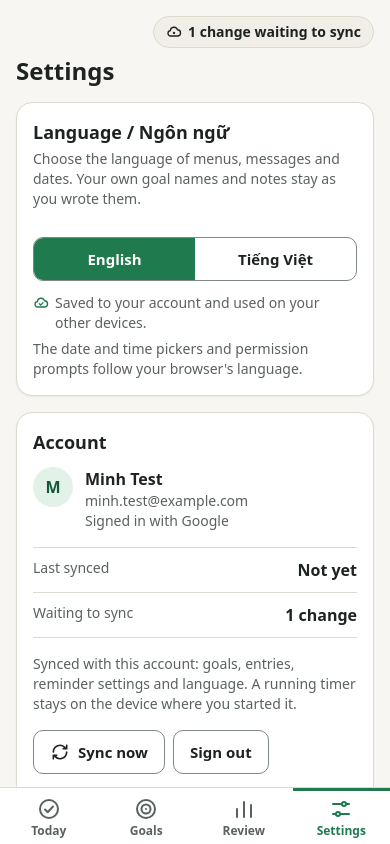
Test: Settings — signed-in copy (M7-AC15, DESIGN S7) › D4 Remove while the final sync fails: dialog stays with the Alert and "Remove anyway"; confirming again removes the data
Expected: the text with test id "pending-count" reads "1 change", [285, 604, 357, 626]
Click the button "Sign out" at (221, 752), box [173, 730, 269, 774]
(page scrolled)
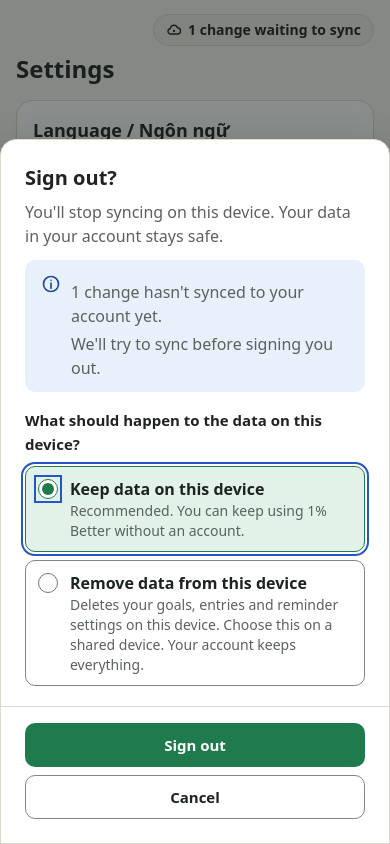
Click the radio button labelled "Remove data from this device" at (48, 583), box [38, 573, 58, 593]
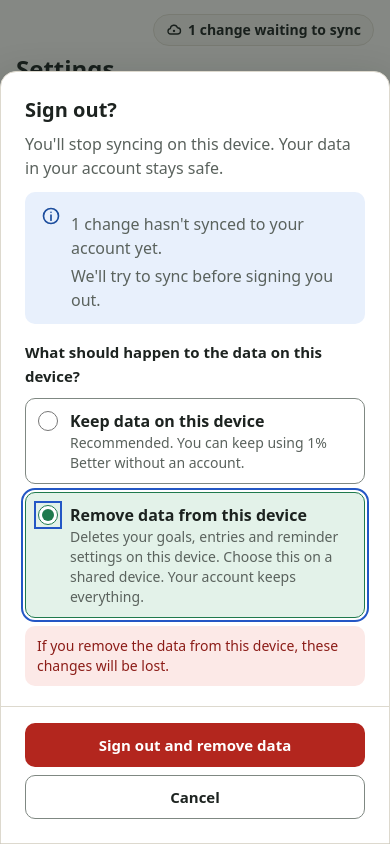
Expected: the message with test id "unsynced-remove" reads "If you remove the data from this device, these changes will be lost.", [37, 636, 338, 675]
Click the button with test id "signout-confirm" at (195, 745), box [25, 723, 365, 767]
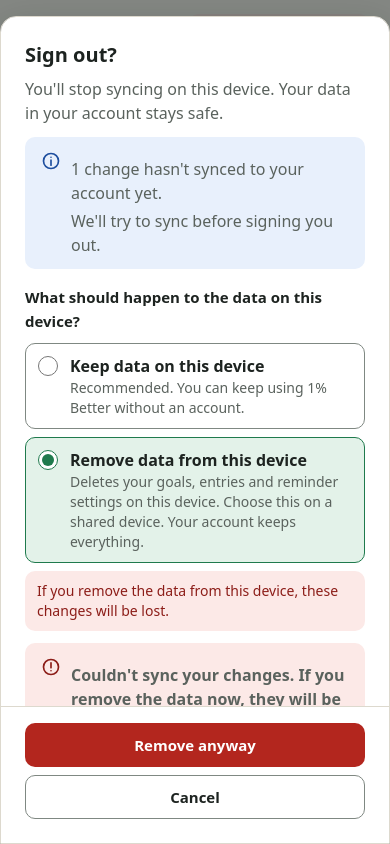
Expected: the message "Couldn't sync your changes. If you remove the data now, they will be lost." is shown, [25, 643, 365, 747]
Expected: the button with test id "signout-confirm" reads "Remove anyway"
Click the button with test id "signout-confirm" at (195, 745), box [25, 723, 365, 767]
(page scrolled)
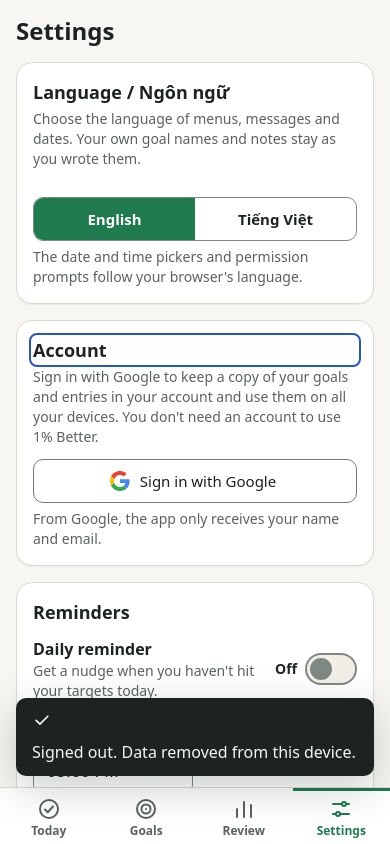
Expected: the element with test id "toast" reads "Signed out. Data removed from this device.", [32, 741, 356, 763]
